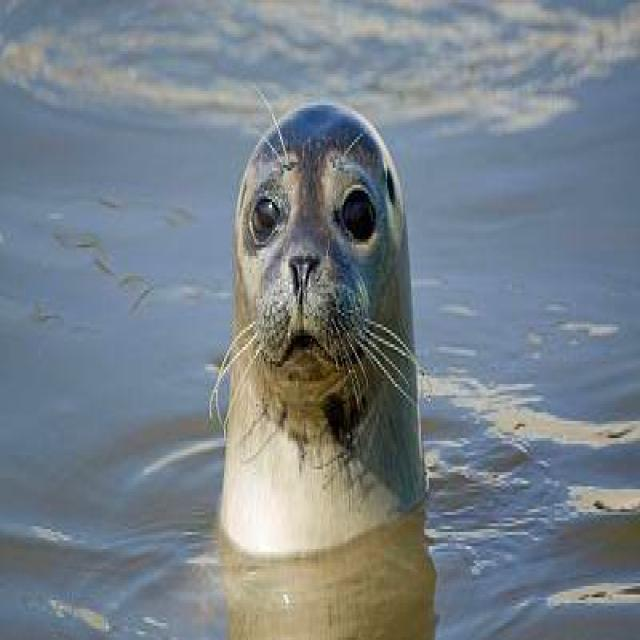seal: (210, 100, 426, 552)
